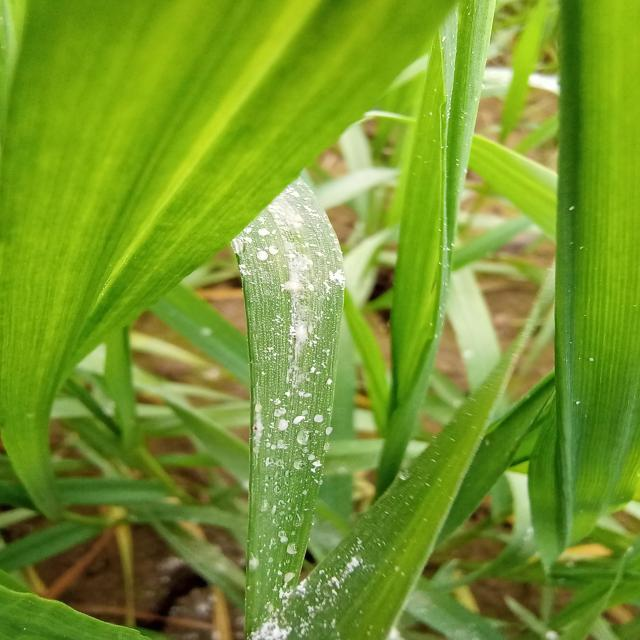Powdery Mildew: (221, 179, 384, 640)
